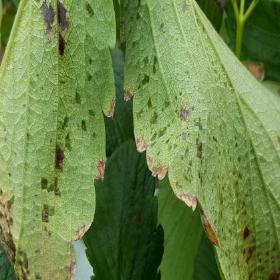Angular Leafspot: (119, 0, 279, 279)
